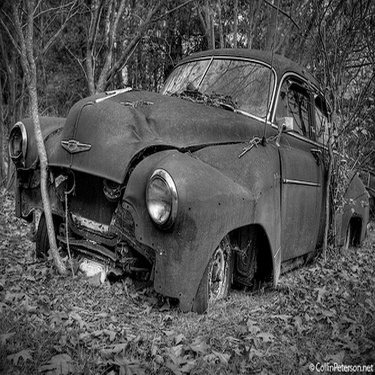car: (4, 42, 366, 311)
